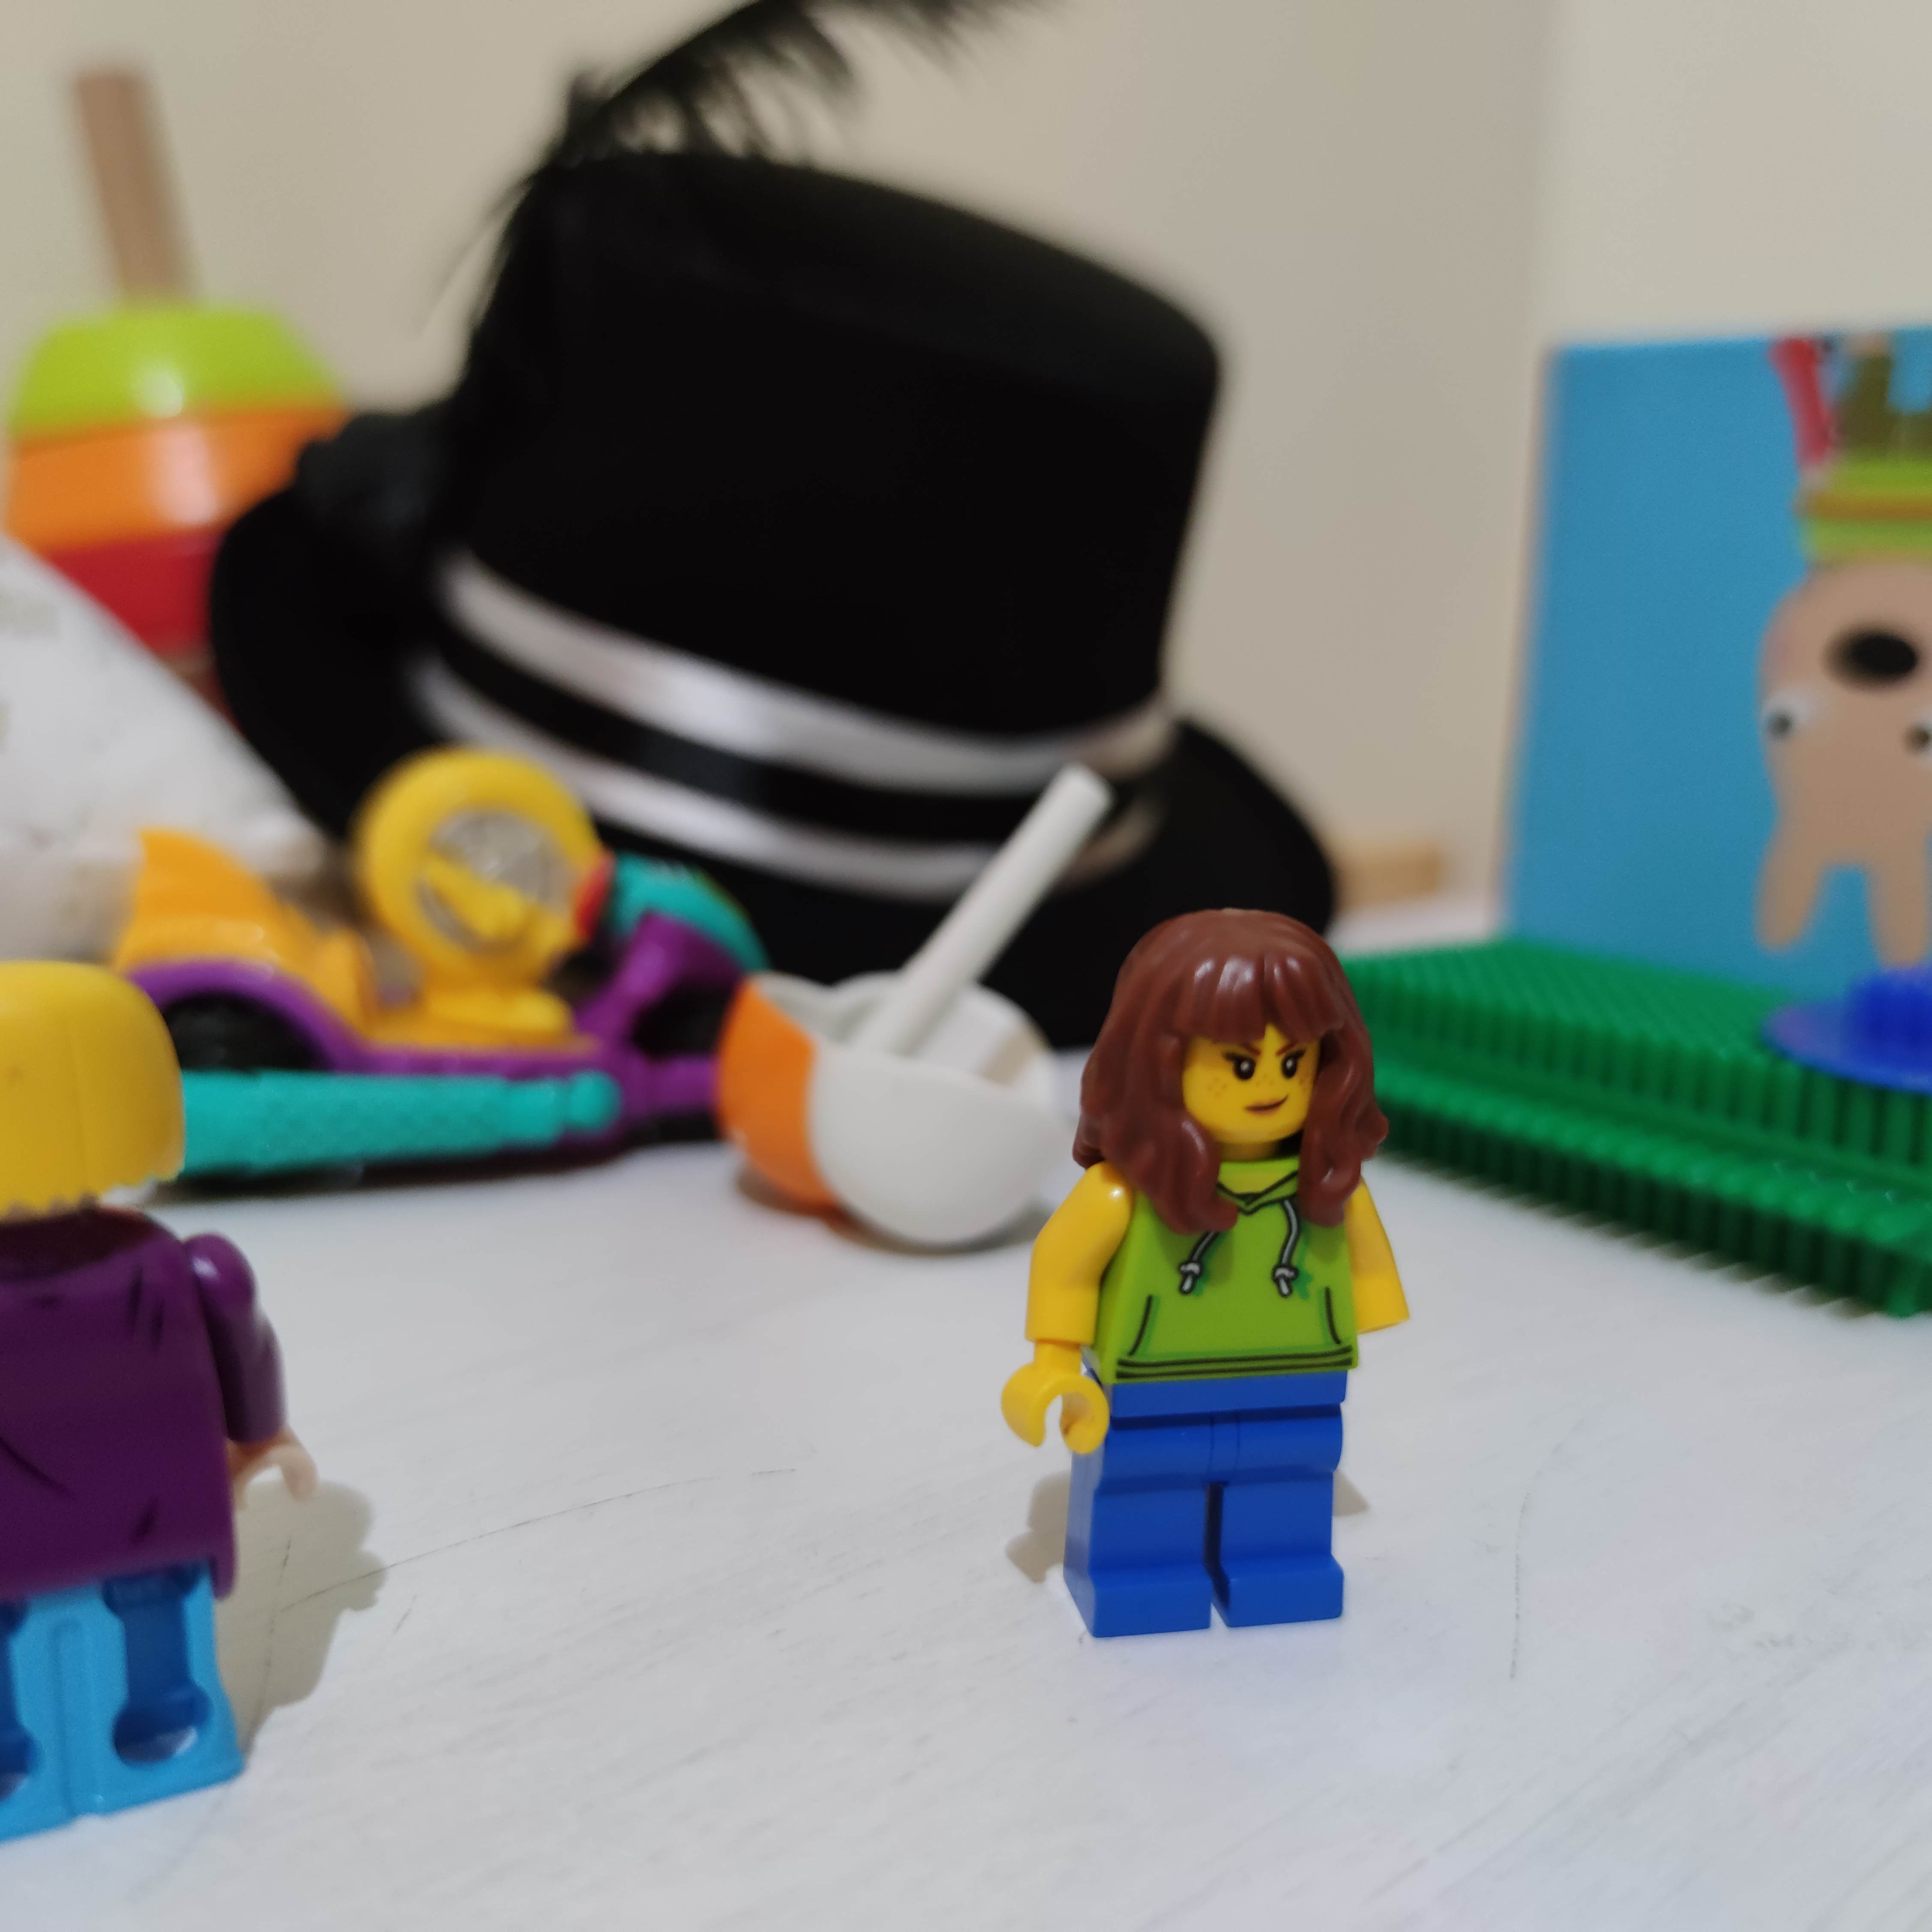lego: (996, 897, 1410, 1638)
